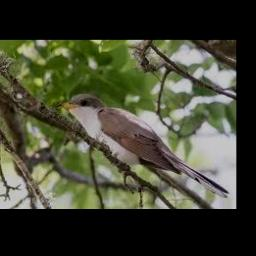Cuckoo: (56, 93, 229, 197)
